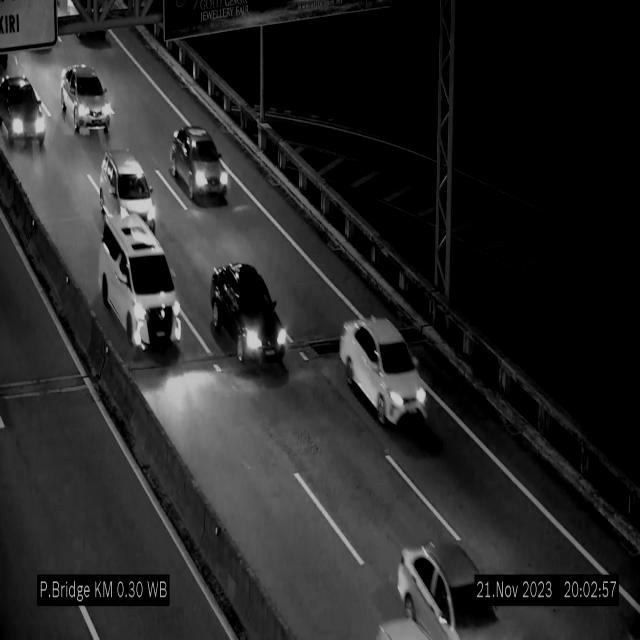Car: (392, 517, 508, 640), (98, 214, 184, 356), (340, 318, 430, 424), (208, 260, 286, 365), (101, 151, 157, 231), (170, 126, 228, 203), (56, 62, 116, 136), (0, 71, 48, 151)
